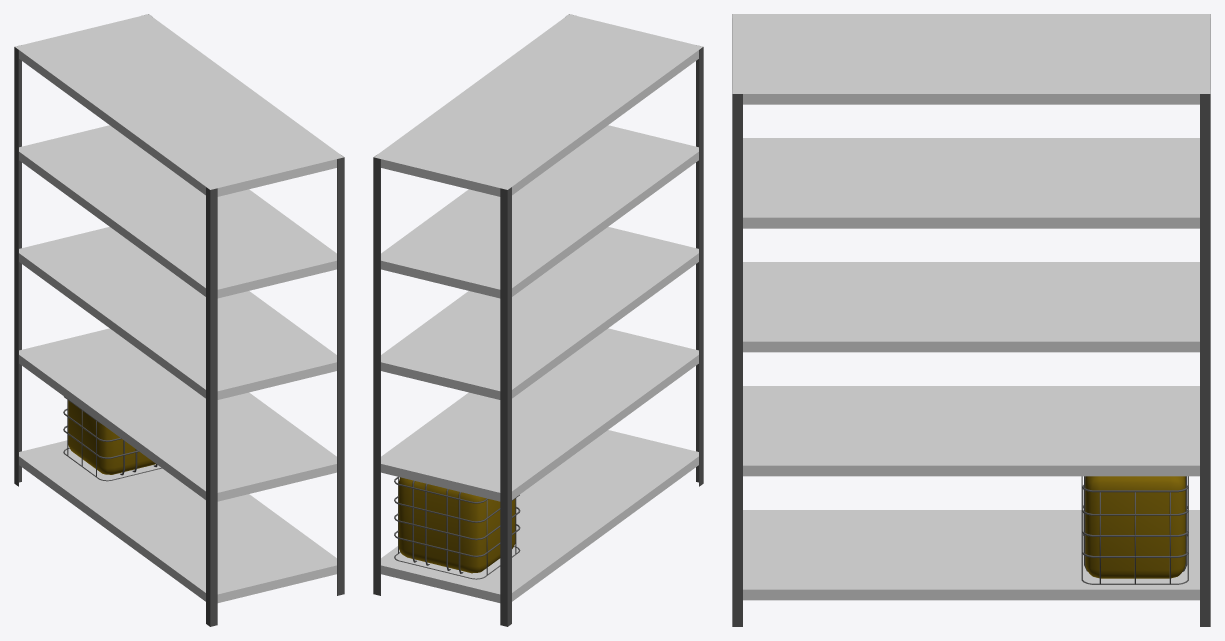
The model's file is Shelving.fbx.
3 renders of one model, left to right at view 1: azimuth 30°, elevation 25°; view 2: azimuth 150°, elevation 25°; view 3: azimuth 270°, elevation 25°, orthographic. The views are drawn at different scales.
Parts seen in each view (by area): view 1: SHelving, Container; view 2: SHelving, Container; view 3: SHelving, Container.
Part boxes in pixels (left/top/right/bottom): SHelving: left=14, top=14, right=344, bottom=626; Container: left=63, top=396, right=161, bottom=481; SHelving: left=373, top=14, right=703, bottom=626; Container: left=394, top=477, right=520, bottom=579; SHelving: left=732, top=14, right=1210, bottom=626; Container: left=1081, top=476, right=1188, bottom=584.
Bounding box in the file's own units: 91.43 × 284 × 231.
